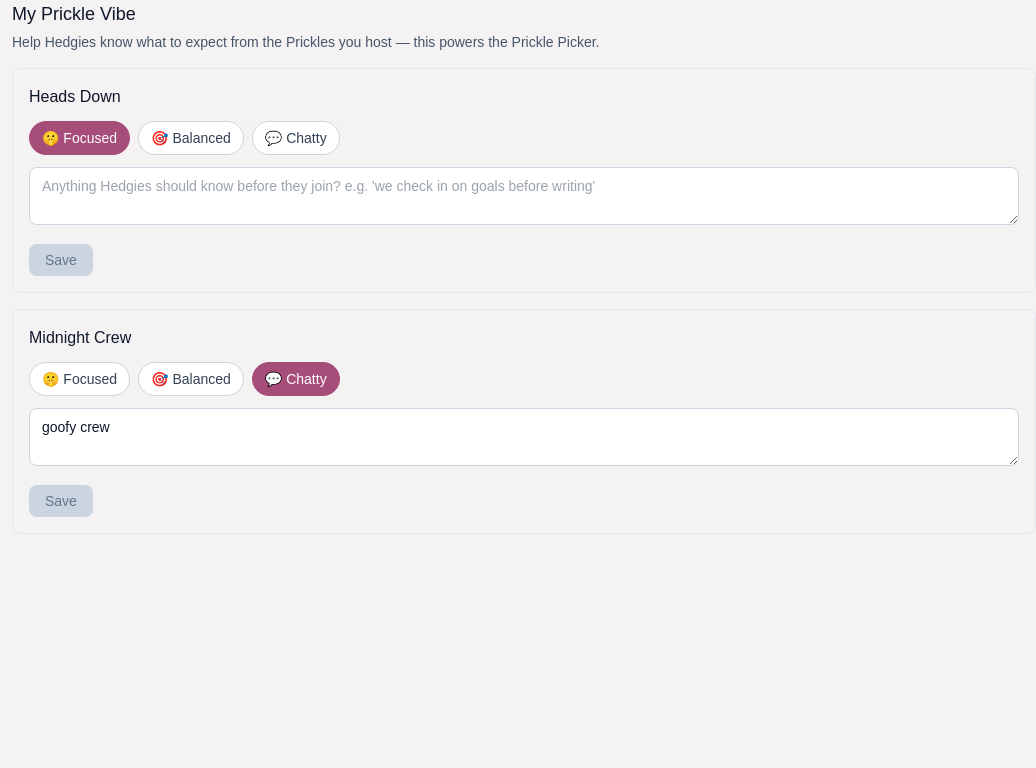
Test: HostVibePanel › shows an error and keeps Save enabled when the save fails
Click the button "🎯 Balanced" below "Heads Down": click(191, 138) [138, 121, 244, 155]
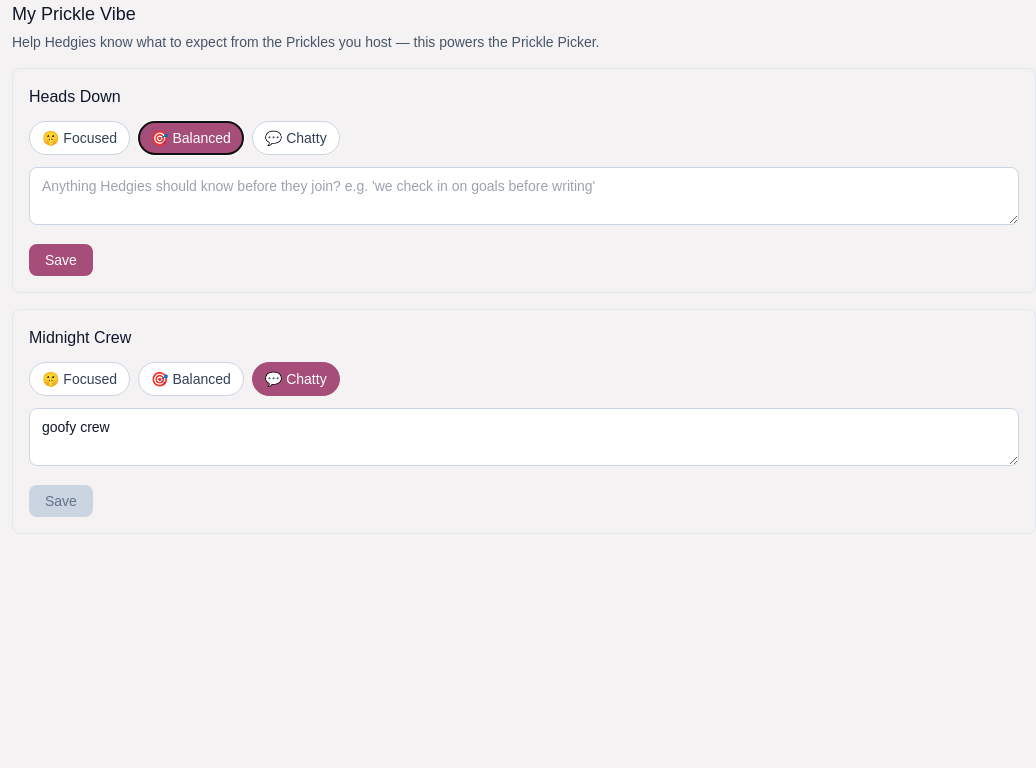
Click the button "Save" below "Heads Down": click(61, 260) [29, 244, 93, 276]
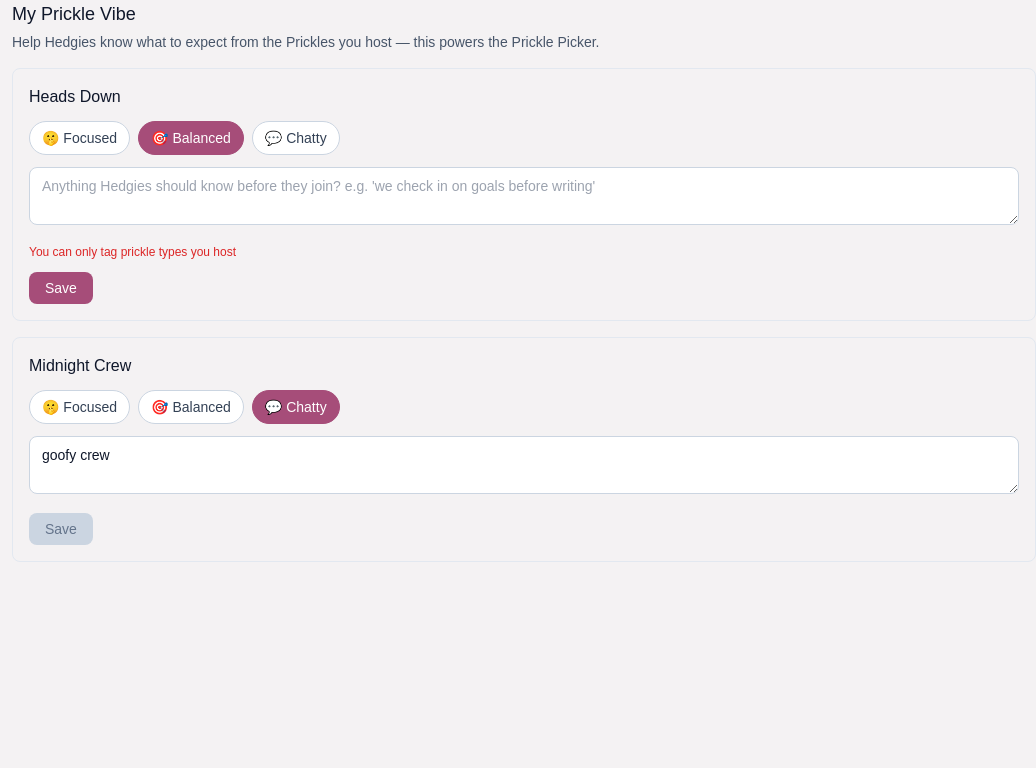
expect the text "You can only tag prickle types you host" is shown: met, box [29, 245, 236, 259]
